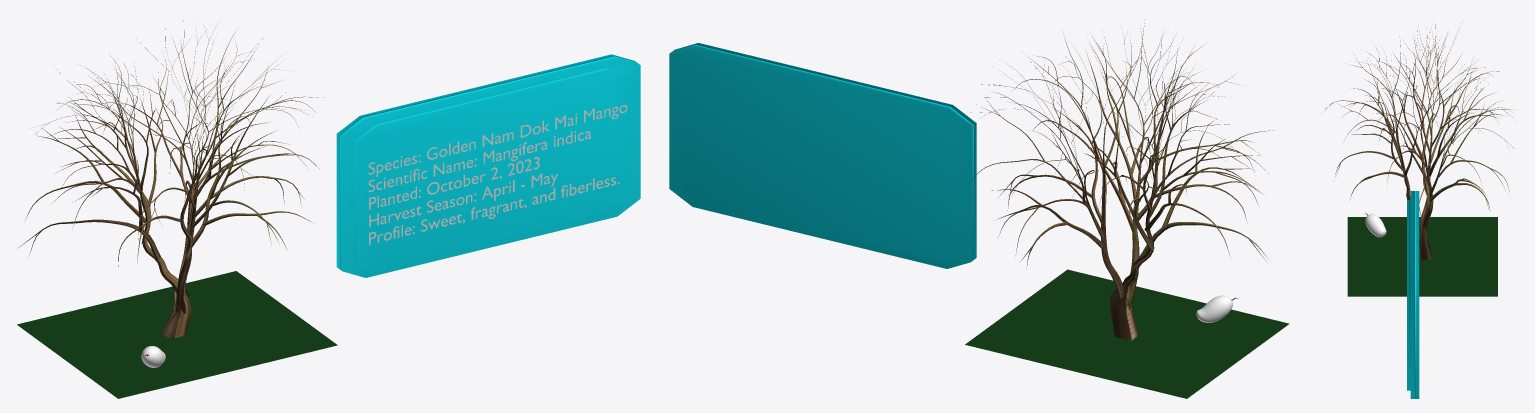
File: mango.glb
3 renders of one model, left to right at view 1: azimuth 30°, elevation 25°; view 2: azimuth 150°, elevation 25°; view 3: azimuth 270°, elevation 25°, orthographic. The views are drawn at different scales.
Parts seen in each view (by area): view 1: Cube.002, Plane, tree, Text; view 2: Cube.002, Plane, tree, Circle.001; view 3: Plane, tree, Cube.002, Circle.001.
Part boxes in pixels (<box>): Cube.002: <box>336,54,640,277</box>; Plane: <box>17,271,337,398</box>; tree: <box>17,20,324,338</box>; Text: <box>368,104,627,244</box>; Cube.002: <box>669,43,976,268</box>; Plane: <box>965,269,1289,398</box>; tree: <box>970,20,1275,340</box>; Circle.001: <box>1196,295,1238,322</box>; Plane: <box>1347,217,1497,296</box>; tree: <box>1321,24,1514,260</box>; Cube.002: <box>1407,191,1419,398</box>; Circle.001: <box>1365,213,1386,237</box>.
Size of the model in its own units: 0.7502 by 0.3419 by 0.2923.
5 materials, 1 textured.
